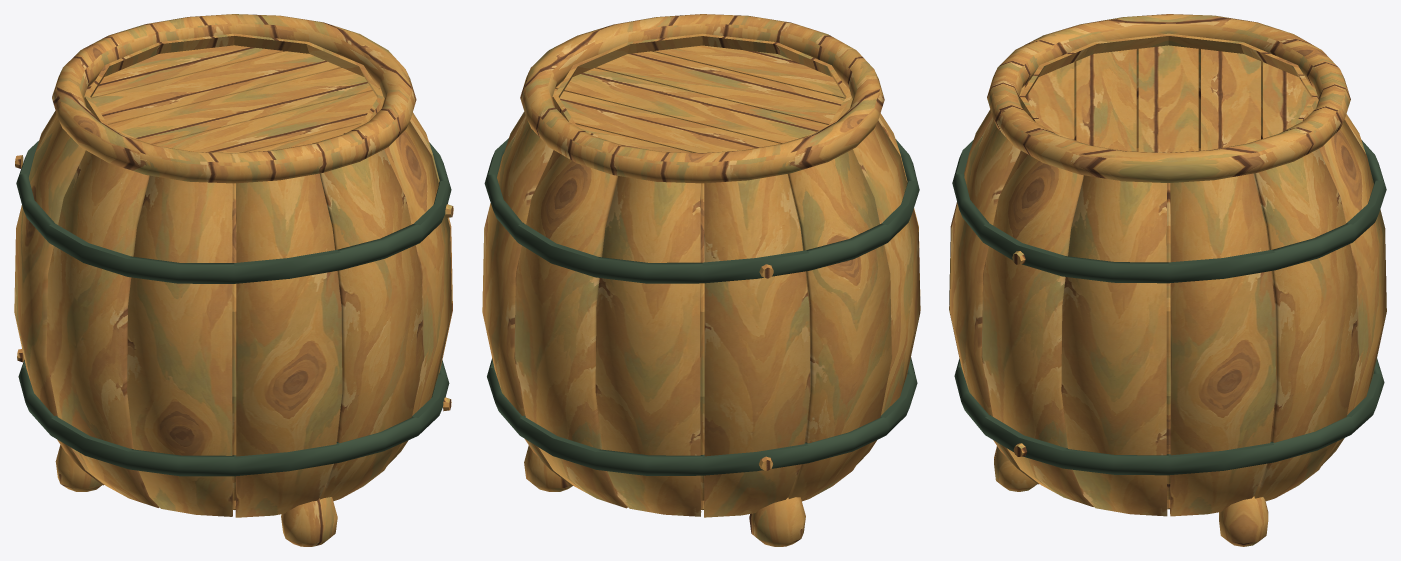
The model's file is aether_barrel_shape_bloomwalker.fbx.
3 renders of one model, left to right at view 1: azimuth 30°, elevation 25°; view 2: azimuth 150°, elevation 25°; view 3: azimuth 270°, elevation 25°, orthographic.
Parts seen in each view (by area): view 1: aether_barrel_shape_bloomwalker; view 2: aether_barrel_shape_bloomwalker; view 3: aether_barrel_shape_bloomwalker.
Part boxes in pixels (x1,y1,x2,y2): aether_barrel_shape_bloomwalker: (14,14,453,546); aether_barrel_shape_bloomwalker: (482,14,920,546); aether_barrel_shape_bloomwalker: (949,14,1386,546).
Bounding box in the file's own units: 101 × 102 × 101.
2 materials, 1 textured.
